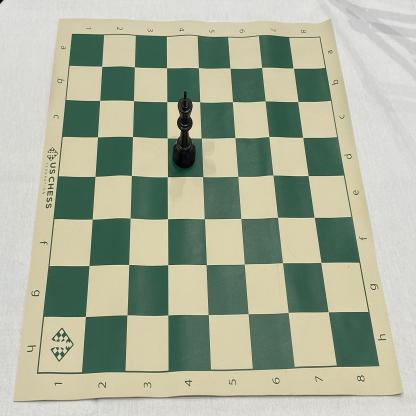black-king: (171, 91, 197, 170)
